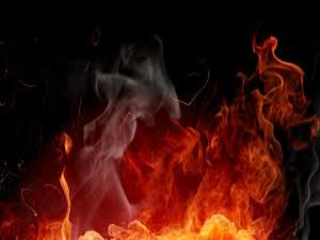fire: (155, 49, 315, 232), (90, 60, 170, 220), (30, 125, 92, 237)
